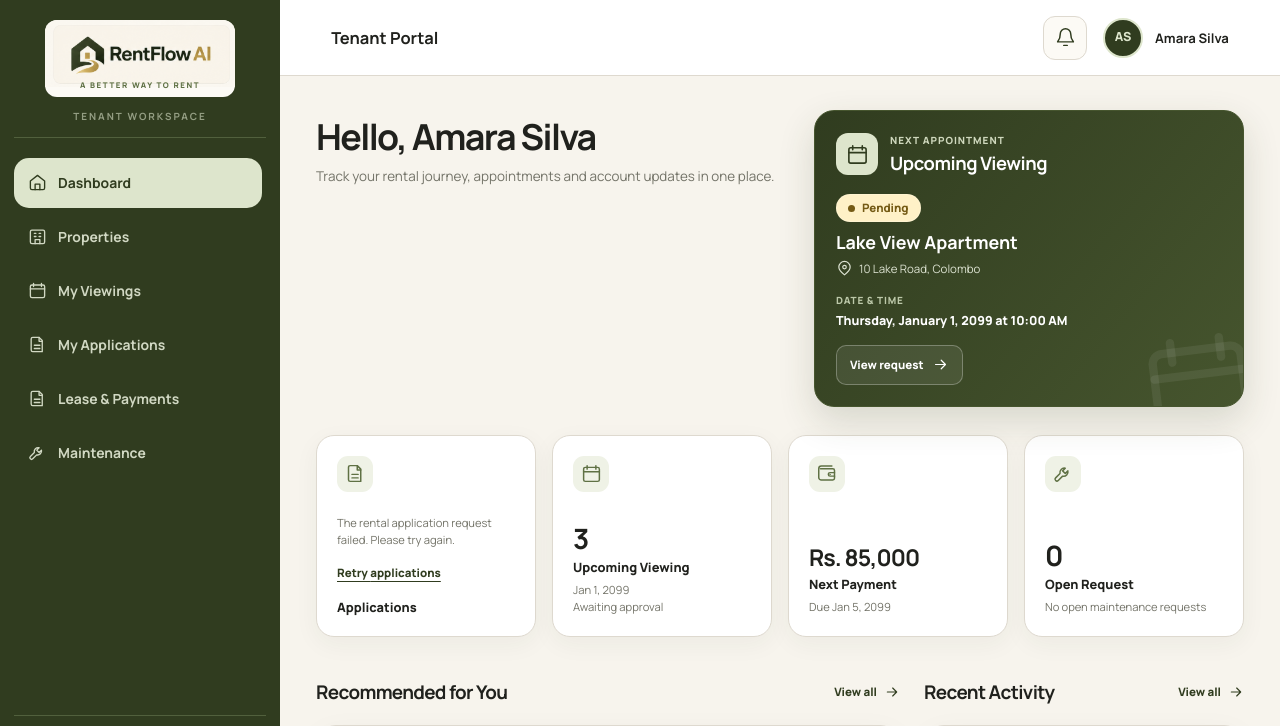
Test case: tenant dashboard › keeps independent loading and failure states and retries only applications
Expected: the message "The rental application request failed. Please try again. Retry applications" is shown, [337,509,515,592]
Expected: the text "3" is shown, [573,524,588,552]
Click the button "Retry applications" at (389, 573), box [337,554,441,592]
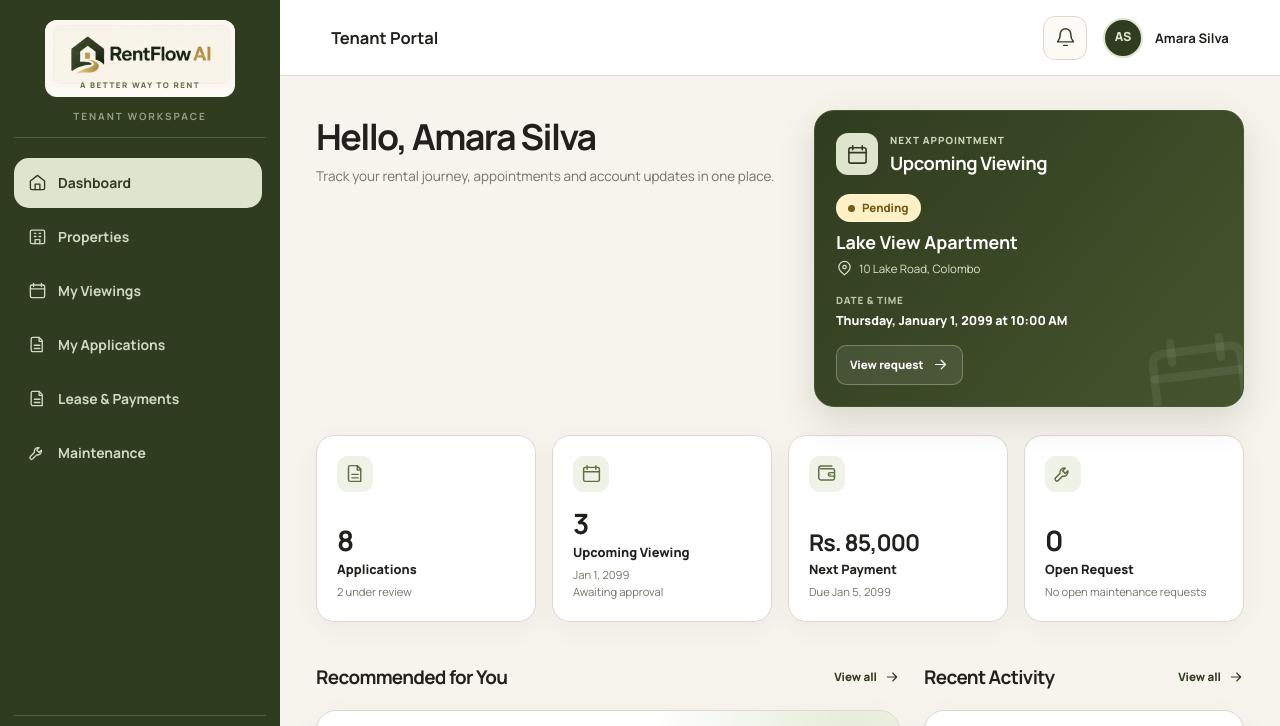
Expected: the text "8" is shown, [337,526,353,554]
